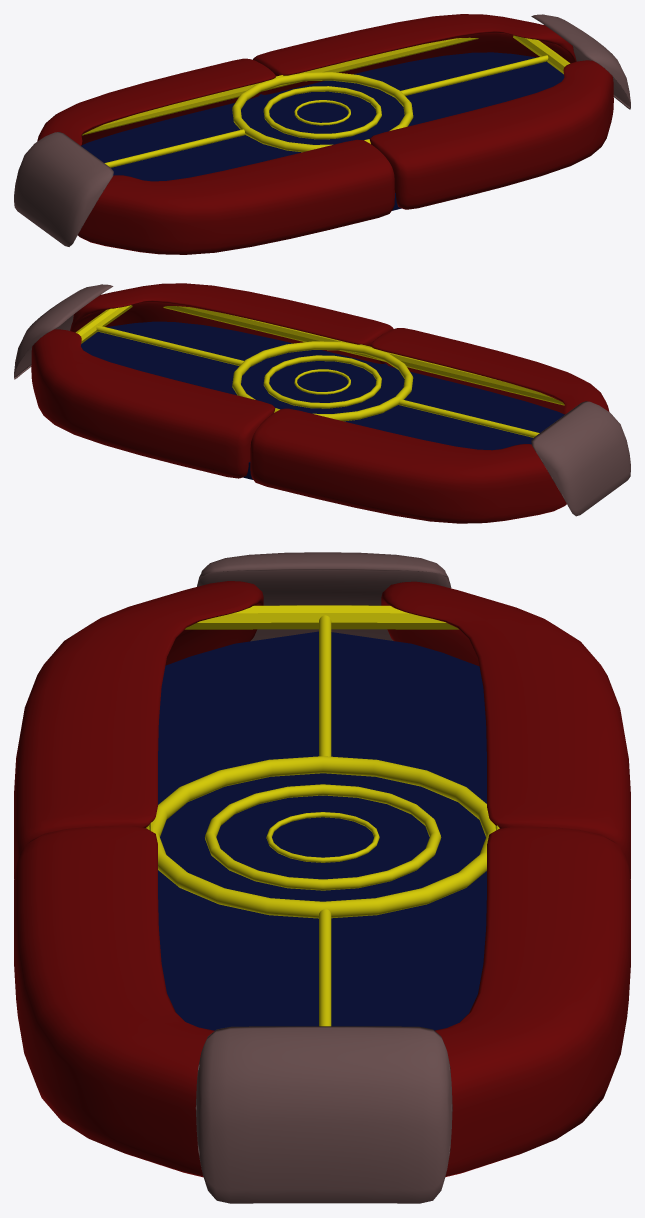
Rendered from Paddle.fbx.
3 views of the same model, one above another, from view 1: azimuth 30°, elevation 25°; view 2: azimuth 150°, elevation 25°; view 3: azimuth 270°, elevation 25° (orthographic). The views are drawn at different scales.
Parts seen in each view (by area): view 1: pasted__pCube1, pCylinder2, pCube1, pasted__pCube2, pTorus2, pasted__pTorus3 (×2), pCube2, pTorus3, pCylinder1, pasted__pCylinder1; view 2: pCube1, pCylinder2, pasted__pCube1, pasted__pCube2, pTorus2, pasted__pTorus3 (×2), pCube2, pTorus3, pCylinder1, pasted__pCylinder1; view 3: pCylinder2, pasted__pCube1, pCube1, pCube2, pasted__pTorus3 (×2), pasted__pCube2, pTorus3, pTorus2, pasted__pCylinder1, pCylinder1.
Part boxes in pixels (x1,y1,x2,y2): pasted__pCube1: (78,60,613,254); pCylinder2: (81,52,564,210); pCube1: (37,14,576,145); pasted__pCube2: (14,132,113,246); pTorus2: (82,35,570,140); pasted__pTorus3 (×2): (232,72,413,152); pCube2: (531,14,630,109); pTorus3: (263,86,381,139); pCylinder1: (401,55,548,95); pasted__pCylinder1: (104,129,245,167); pCube1: (31,329,566,523); pCylinder2: (81,321,564,479); pasted__pCube1: (70,283,609,414); pasted__pCube2: (531,401,630,516); pTorus2: (75,305,564,411); pasted__pTorus3 (×2): (232,341,413,421); pCube2: (14,284,113,379); pTorus3: (263,355,381,408); pCylinder1: (96,325,243,365); pasted__pCylinder1: (398,399,539,437); pCylinder2: (158,631,486,1030); pasted__pCube1: (14,581,263,1177); pCube1: (381,581,630,1176); pCube2: (195,1026,452,1203); pasted__pTorus3 (×2): (146,756,495,918); pasted__pCube2: (197,552,451,641); pTorus3: (205,784,441,890); pTorus2: (148,605,499,831); pasted__pCylinder1: (319,615,331,756); pCylinder1: (319,909,331,1026).
Bounding box in the file's own units: 8.4 × 1.01 × 4.
